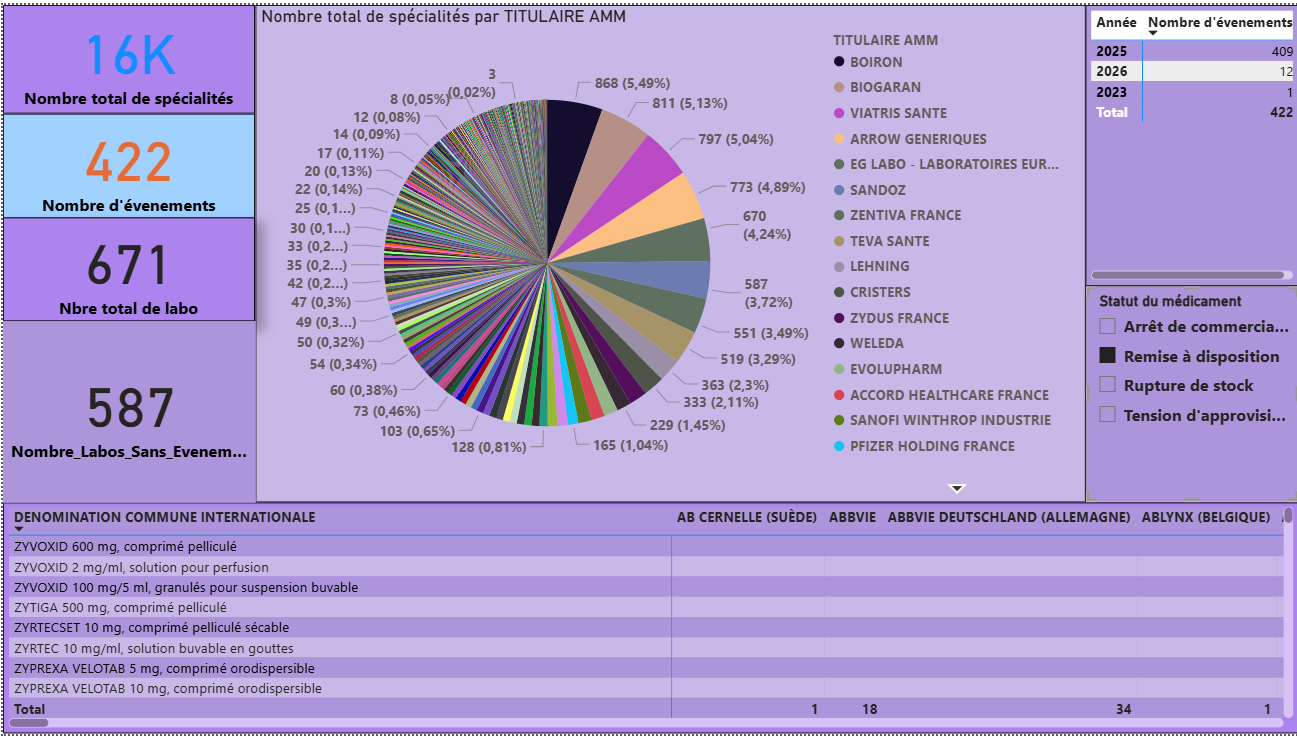

Layout of this report page (visuals, bound fields, positions):
{"tool":"powerbi","page":{"name":"Les années les plus troubles","canvas":[1280,720],"ordinal":3},"visuals":[{"type":"slicer","fields":{"Values":["FACT_Dispo_Spec.Statut du médicament"]},"box":[0,311.6,249,181],"z":0},{"type":"pieChart","fields":{"Category":["DIM INFOS MEDICAMENTS.TITULAIRE AMM"],"Y":["DIM INFOS MEDICAMENTS.Nombre total de spécialités"]},"box":[249,0,820.4,491.2],"z":1000},{"type":"card","fields":{"Values":["DIM INFOS MEDICAMENTS.Nombre total de spécialités"]},"box":[0,0,249,107],"z":2000},{"type":"card","fields":{"Values":["FACT_Dispo_Spec.nombre d'évenements"]},"box":[0,107,249,103],"z":3000},{"type":"card","fields":{"Values":["Sum(FACT_Dispo_Spec.DUREE EVENEMENT)"]},"box":[0,209.5,249,102],"z":4000},{"type":"pivotTable","fields":{"Rows":["DIM INFOS MEDICAMENTS.DCI"],"Columns":["DIM INFOS MEDICAMENTS.TITULAIRE AMM"],"Values":["DIM INFOS MEDICAMENTS.Nombre total de spécialités"]},"box":[0,491.4,1280.2,228.4],"z":5000},{"type":"pivotTable","fields":{"Values":["FACT_Dispo_Spec.Nombre d'évenements"],"Rows":["DIM_Date.Année"]},"box":[1069.1,0,211.1,201.2],"z":6000},{"type":"card","fields":{"Values":["DIM_Date.Max durée"]},"box":[1069.1,201.2,211.1,121],"z":6001},{"type":"card","fields":{"Values":["DIM_Date.Min durée"]},"box":[1069.1,338.3,211.1,153.1],"z":6002}]}

Visuals, with their boxes in screenshot pixels (x1, y1, x2, y2), scaled from the page's 1280x720 canvas onto the 1297x736 screenshot:
slicer - FACT_Dispo_Spec.Statut du médicament: 0 319 252 504
pieChart - DIM INFOS MEDICAMENTS.TITULAIRE AMM x DIM INFOS MEDICAMENTS.Nombre total de spécialités: 252 0 1084 502
card - DIM INFOS MEDICAMENTS.Nombre total de spécialités: 0 0 252 109
card - FACT_Dispo_Spec.nombre d'évenements: 0 109 252 215
card - Sum(FACT_Dispo_Spec.DUREE EVENEMENT): 0 214 252 318
pivotTable - DIM INFOS MEDICAMENTS.DCI x DIM INFOS MEDICAMENTS.TITULAIRE AMM: 0 502 1296 735
pivotTable - FACT_Dispo_Spec.Nombre d'évenements x DIM_Date.Année: 1083 0 1296 206
card - DIM_Date.Max durée: 1083 206 1296 329
card - DIM_Date.Min durée: 1083 346 1296 502
